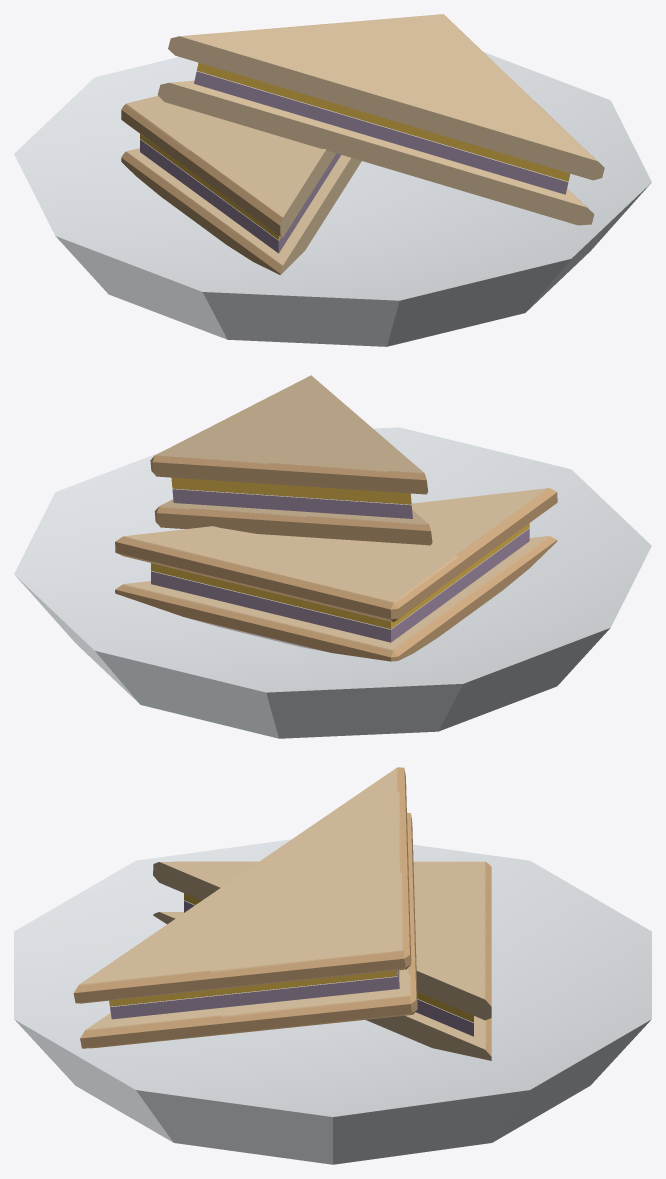
Rendered from cheeseOnion_sandwich.fbx.
3 views of the same model, one above another, from view 1: azimuth 30°, elevation 25°; view 2: azimuth 150°, elevation 25°; view 3: azimuth 270°, elevation 25° (orthographic). The views are drawn at different scales.
Parts seen in each view (by area): view 1: cheese onion sandwich; view 2: cheese onion sandwich; view 3: cheese onion sandwich.
Part boxes in pixels (<box>): cheese onion sandwich: <box>14,14,651,346</box>; cheese onion sandwich: <box>14,375,651,738</box>; cheese onion sandwich: <box>14,767,651,1164</box>.
Bounding box in the file's own units: 42.09 × 15.27 × 40.03.
1 material, 1 textured.
